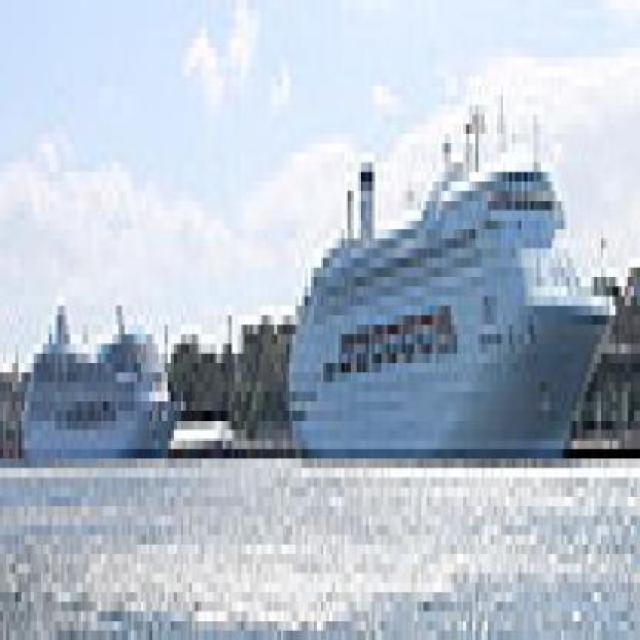cruise: (278, 135, 632, 489), (14, 259, 194, 479)
